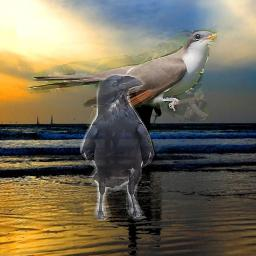Crow: (80, 74, 155, 221)
Cuckoo: (28, 30, 217, 127)
